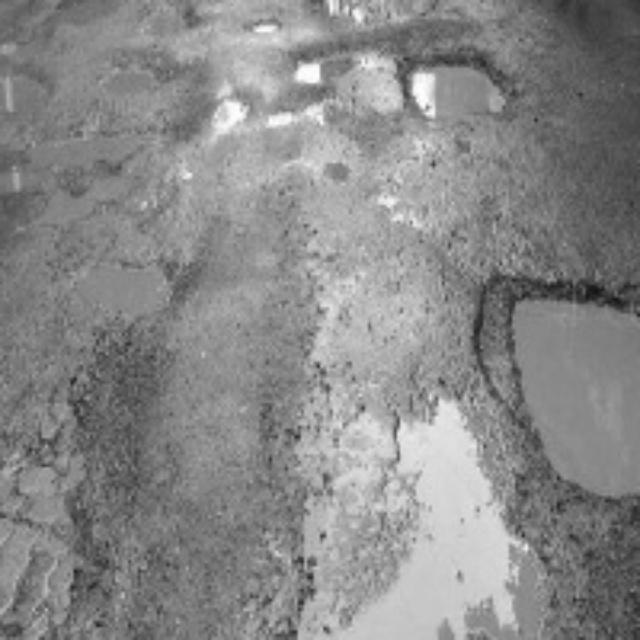Pothole: (483, 262, 640, 496), (401, 43, 507, 118), (326, 0, 426, 31), (221, 84, 257, 140), (281, 48, 316, 80)
Surface Erosion: (2, 2, 518, 640)
